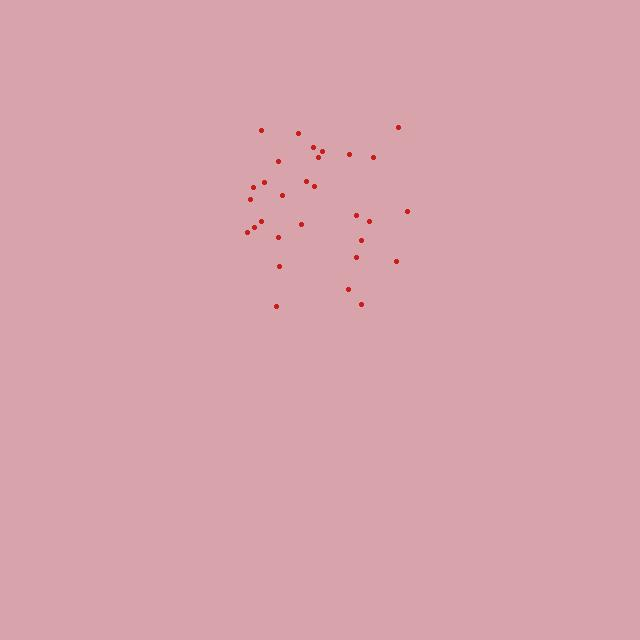abrasion: (241, 126, 412, 314)
